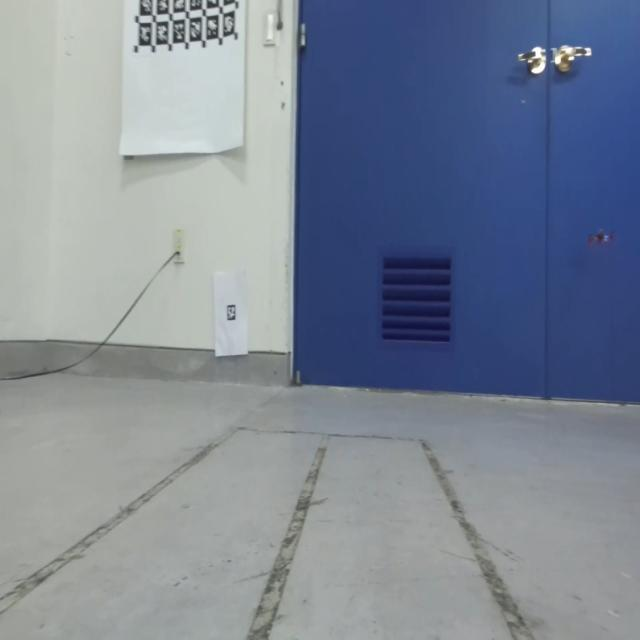crazyflie: (586, 222, 619, 253)
